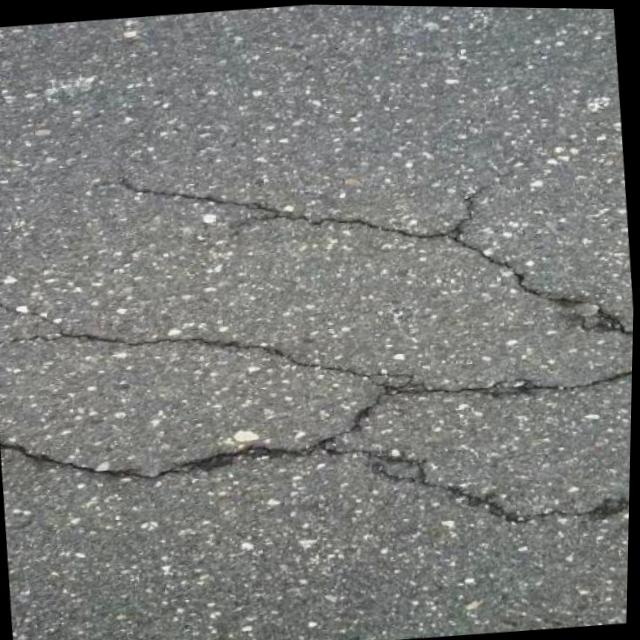Crack: (0, 128, 638, 578)
